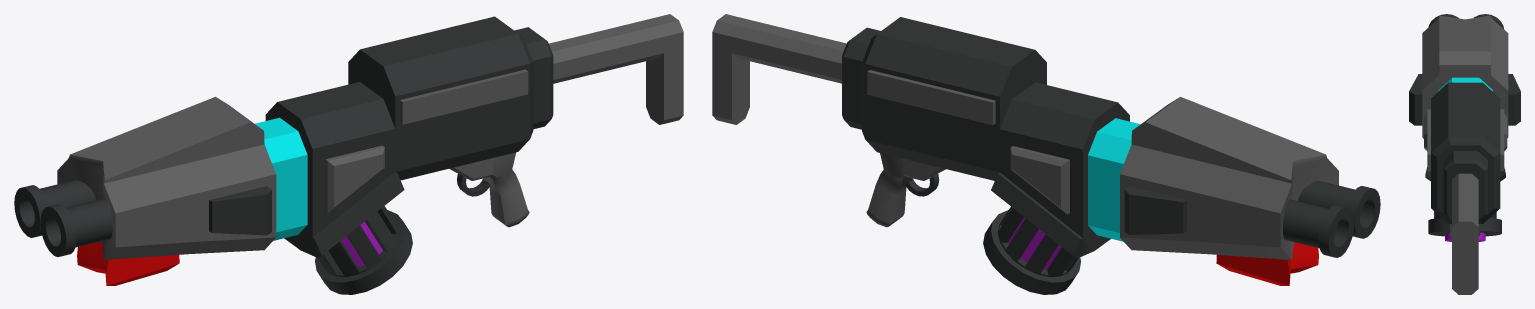
File: MachinGunLaseer.fbx
3 renders of one model, left to right at view 1: azimuth 30°, elevation 25°; view 2: azimuth 150°, elevation 25°; view 3: azimuth 270°, elevation 25°, orthographic. The views are drawn at different scales.
Parts seen in each view (by area): view 1: Machine_Gun_Laser; view 2: Machine_Gun_Laser; view 3: Machine_Gun_Laser.
Boxes of the visible parts, x1,y1,x2,y2 form: Machine_Gun_Laser: (14, 14, 683, 294); Machine_Gun_Laser: (712, 14, 1380, 294); Machine_Gun_Laser: (1409, 14, 1520, 294).
Size of the model in its own units: 69.03 by 23.09 by 14.35.
